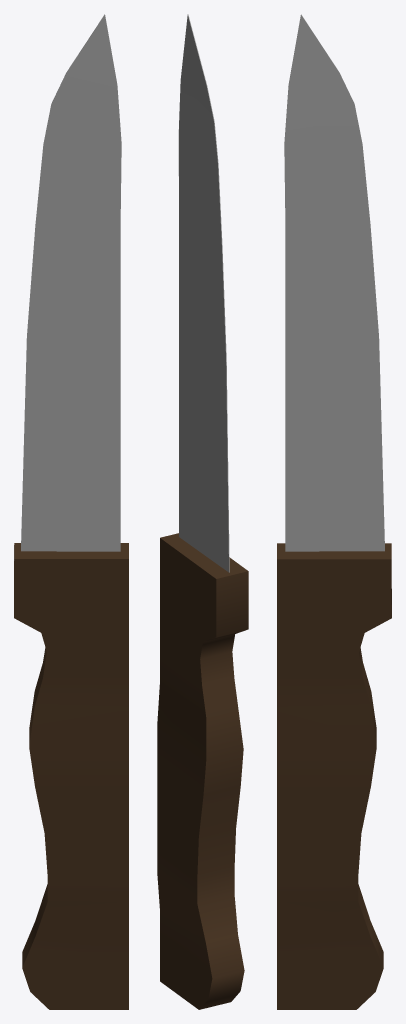
The model's file is midKnife.fbx.
3 views of the same model, side by side, from view 1: azimuth 90°, elevation 25°; view 2: azimuth 210°, elevation 25°; view 3: azimuth 270°, elevation 25° (orthographic).
Parts seen in each view (by area): view 1: pCube5; view 2: pCube5; view 3: pCube5.
Part boxes in pixels (x1,y1,x2,y2): pCube5: (14, 14, 128, 1009); pCube5: (157, 14, 248, 1009); pCube5: (277, 14, 391, 1009).
Bounding box in the file's own units: 0.2736 × 6.82 × 0.7181.
1 material, 1 textured.
